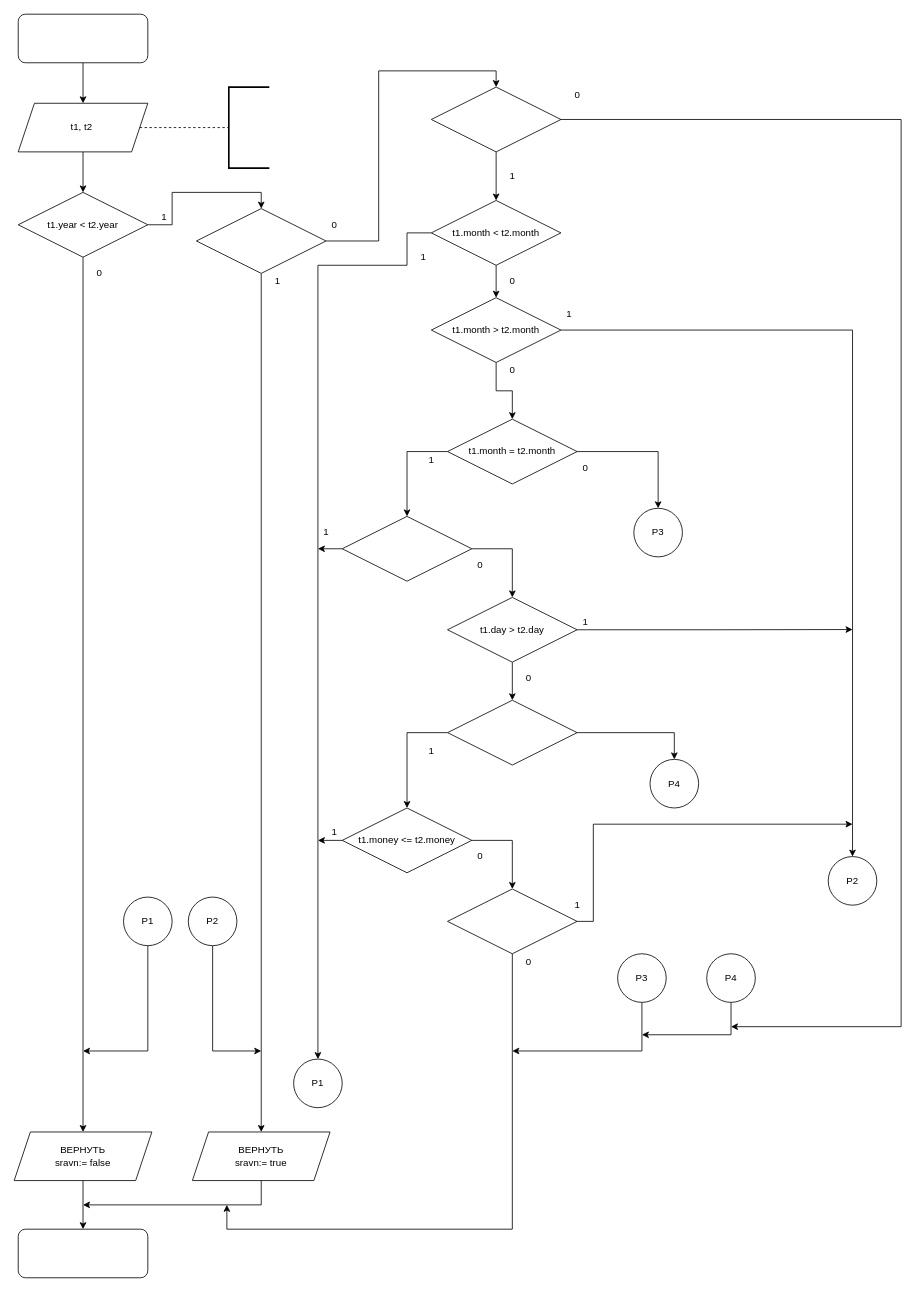
This 922x1292 diagram has some shape labels left out. The shapes that lost their labels are listed below. From the top down, each one's box as (x1, y1, x2, y2) in pixels, then its label:
(17, 13, 148, 63): Sravn НАЧАЛО
(228, 86, 270, 168): t1, t2 - переменные типа TDoc по значению
(431, 86, 561, 152): t1.year = t2.year
(196, 208, 326, 273): t1.year > t2.year
(341, 516, 472, 581): t1.day < t2.day
(447, 699, 577, 765): t1.day = t2.day
(447, 888, 577, 954): t1.money > t2.money
(17, 1228, 148, 1278): НАЧАЛО Sravn
